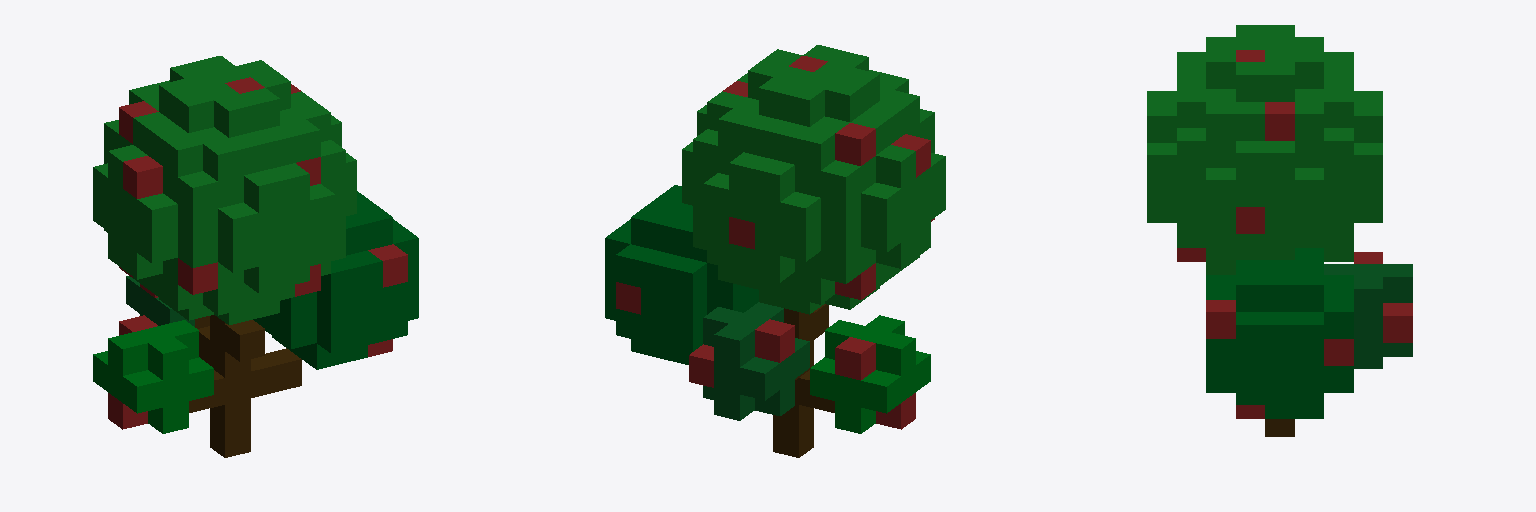
3 views of the same model, side by side, from view 1: azimuth 30°, elevation 25°; view 2: azimuth 150°, elevation 25°; view 3: azimuth 270°, elevation 25° (orthographic).
Parts seen in each view (by area): view 1: object 1; view 2: object 1; view 3: object 1.
Part boxes in pixels (bbox=[...]): object 1: bbox=[93, 56, 418, 457]; object 1: bbox=[605, 45, 945, 457]; object 1: bbox=[1147, 25, 1412, 436].
Size of the model in its own units: 1.1 by 1.4 by 0.9.
1 materials, 1 textured.